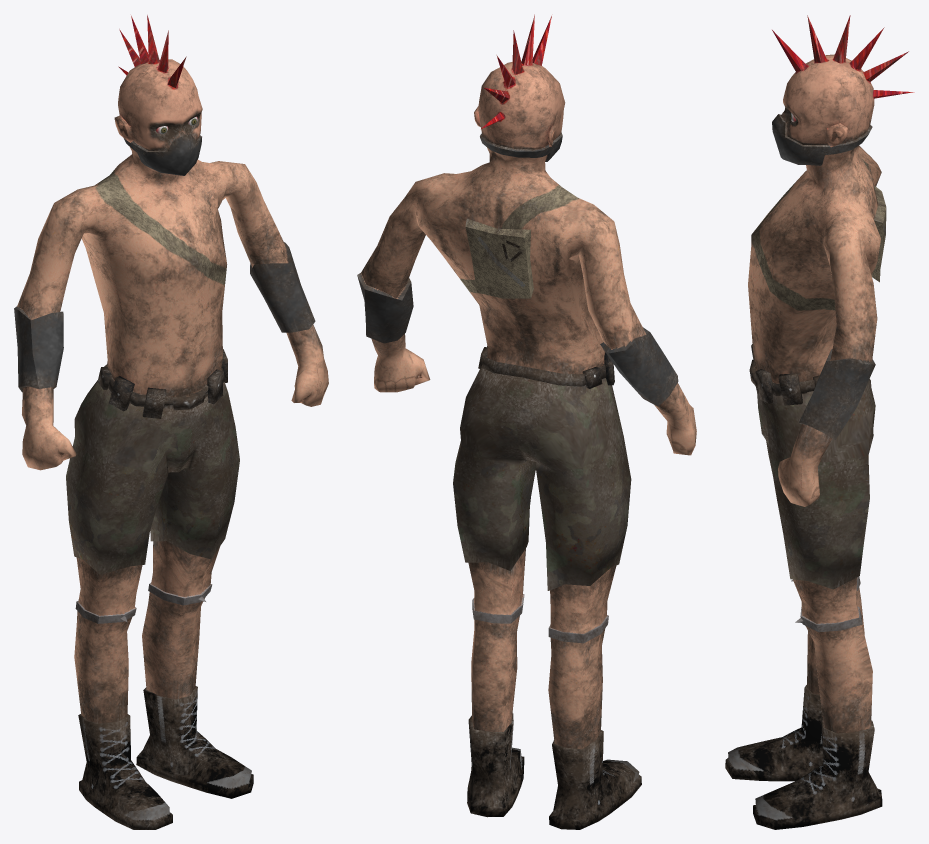
File: Anim_interruptor_npc2.0040.obj
The picture shows the model from 3 angles, left to right: view 1: azimuth 30°, elevation 25°; view 2: azimuth 150°, elevation 25°; view 3: azimuth 270°, elevation 25°; orthographic projection. The views are drawn at different scales.
Parts seen in each view (by area): view 1: polySurface1; view 2: polySurface1; view 3: polySurface1.
Boxes of the visible parts, box(x1,y1,x2,y2) form: polySurface1: box(14, 15, 328, 829); polySurface1: box(357, 14, 696, 829); polySurface1: box(725, 15, 914, 829).
Size of the model in its own units: 4.32 by 10.17 by 2.23.
Materials: 2 (2 with a texture image).
